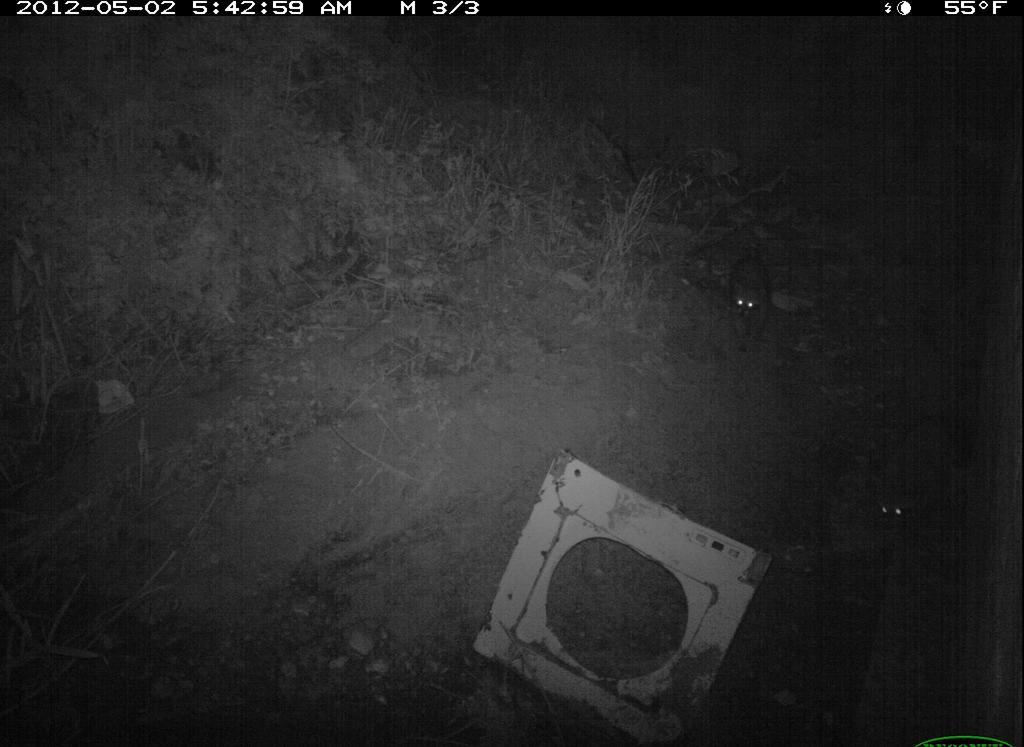raccoon: (711, 239, 792, 361), (854, 455, 935, 560)
